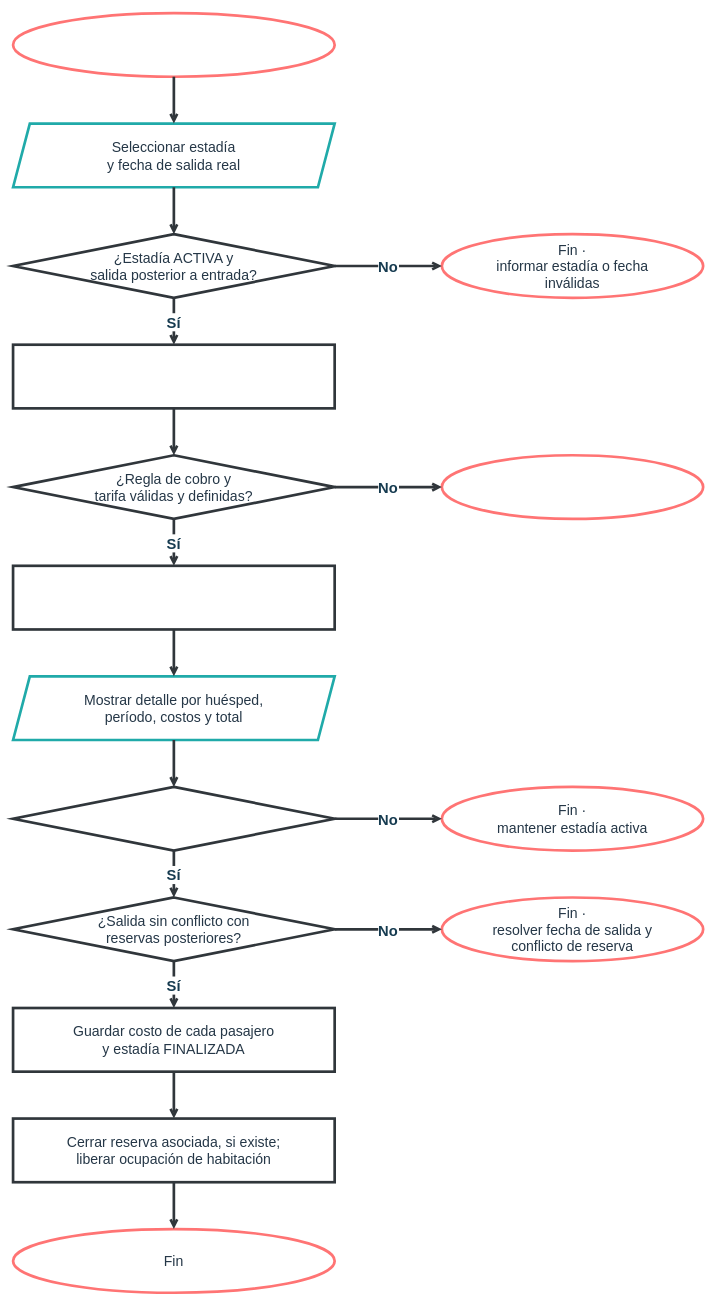
Some shapes in this 716 by 1305 pixel diagram are drawn without their labels. The box of each missing label's shape, as (x1, y1, x2, y2) in pixels:
Calcular costo por pasajero y total de cuenta · CU07: (11, 564, 336, 630)
Fin · solicitar definición o corrección del cobro: (440, 454, 704, 520)
Inicio: (11, 11, 336, 78)
Recuperar huéspedes asignados y parámetros de cobro: (11, 343, 336, 409)
¿Confirma la cuenta y la salida?: (11, 785, 336, 852)
